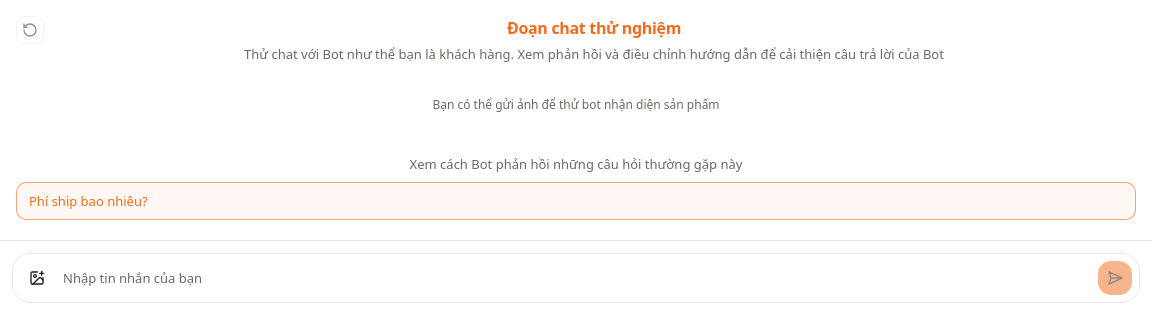
Test: TestChat › explains a missing AI configuration instead of failing silently
Click the button "Phí ship bao nhiêu?" at (88, 201), box [16,182,1136,220]
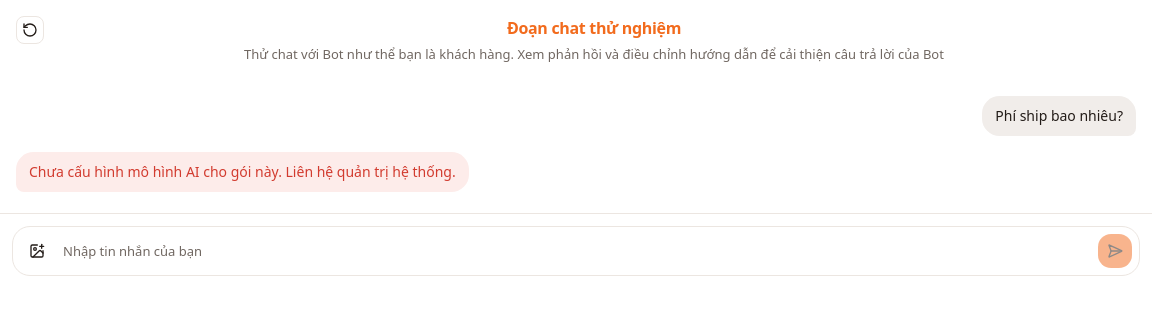
Expected: the button "Chưa cấu hình mô hình AI cho gói này. Liên hệ quản trị hệ thống." is shown, [16,152,469,193]
